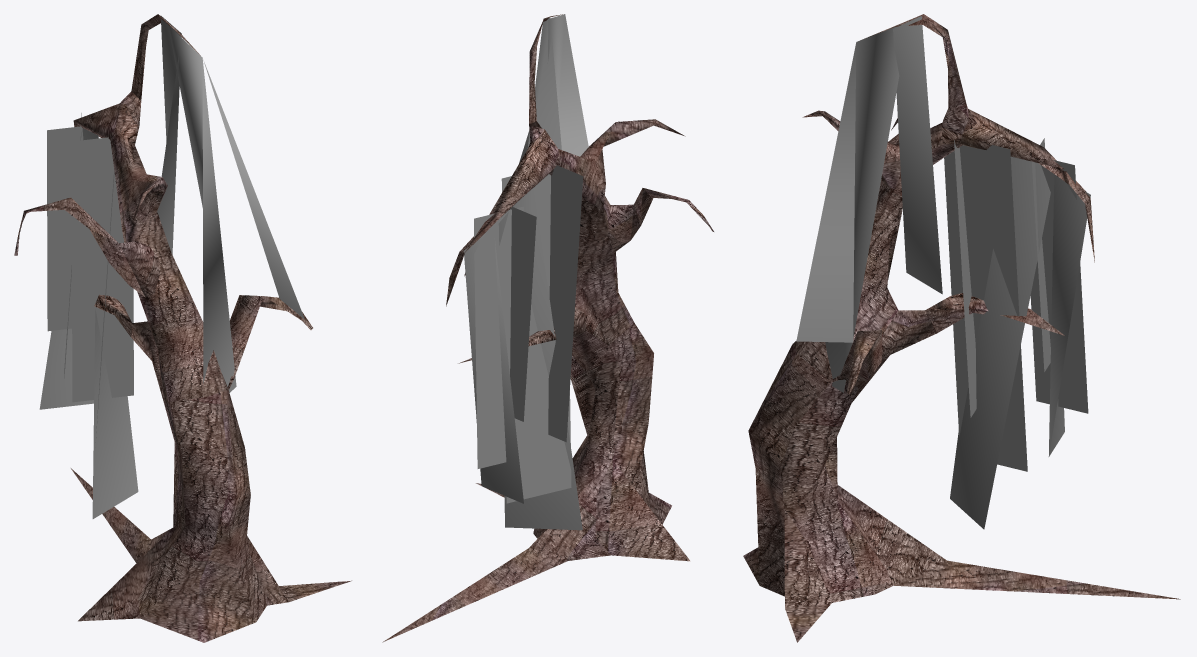
File: kurvigtree_lod2.fbx
The picture shows the model from 3 angles, left to right: view 1: azimuth 30°, elevation 25°; view 2: azimuth 150°, elevation 25°; view 3: azimuth 270°, elevation 25°; orthographic projection. The views are drawn at different scales.
Parts seen in each view (by area): view 1: Default_Layer; view 2: Default_Layer; view 3: Default_Layer.
Boxes of the visible parts, left/top/right/bottom form: Default_Layer: left=14, top=14, right=351, bottom=642; Default_Layer: left=382, top=14, right=713, bottom=642; Default_Layer: left=743, top=14, right=1180, bottom=642.
Size of the model in its own units: 699 by 1275 by 896.
